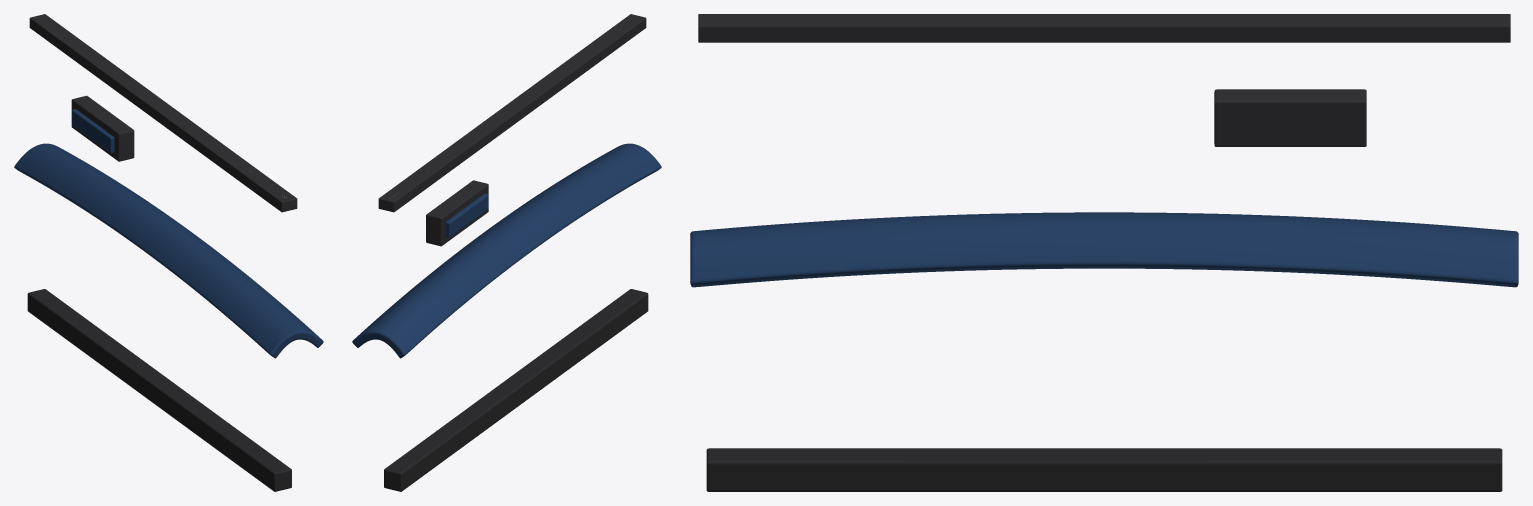
The model's file is front_right_door.glb.
3 renders of one model, left to right at view 1: azimuth 30°, elevation 25°; view 2: azimuth 150°, elevation 25°; view 3: azimuth 270°, elevation 25°, orthographic. The views are drawn at different scales.
Parts seen in each view (by area): view 1: DOOR_OUTER_SKIN_front_right_door.glb, DOOR_LOWER_BLADE_front_right_door.glb, DOOR_WAIST_SEAL_front_right_door.glb, HANDLE_CUP_front_right_door.glb, HANDLE_LEVER_front_right_door.glb; view 2: DOOR_OUTER_SKIN_front_right_door.glb, DOOR_LOWER_BLADE_front_right_door.glb, DOOR_WAIST_SEAL_front_right_door.glb, HANDLE_CUP_front_right_door.glb, HANDLE_LEVER_front_right_door.glb; view 3: DOOR_OUTER_SKIN_front_right_door.glb, DOOR_LOWER_BLADE_front_right_door.glb, DOOR_WAIST_SEAL_front_right_door.glb, HANDLE_CUP_front_right_door.glb.
Boxes of the visible parts, x1=… form: DOOR_OUTER_SKIN_front_right_door.glb: x1=14, y1=143, x2=323, y2=358; DOOR_LOWER_BLADE_front_right_door.glb: x1=27, y1=289, x2=291, y2=491; DOOR_WAIST_SEAL_front_right_door.glb: x1=29, y1=14, x2=297, y2=212; HANDLE_CUP_front_right_door.glb: x1=71, y1=95, x2=134, y2=161; HANDLE_LEVER_front_right_door.glb: x1=71, y1=109, x2=114, y2=152; DOOR_OUTER_SKIN_front_right_door.glb: x1=352, y1=143, x2=661, y2=358; DOOR_LOWER_BLADE_front_right_door.glb: x1=384, y1=289, x2=648, y2=491; DOOR_WAIST_SEAL_front_right_door.glb: x1=378, y1=14, x2=646, y2=212; HANDLE_CUP_front_right_door.glb: x1=426, y1=180, x2=488, y2=246; HANDLE_LEVER_front_right_door.glb: x1=445, y1=193, x2=488, y2=237; DOOR_OUTER_SKIN_front_right_door.glb: x1=690, y1=212, x2=1518, y2=287; DOOR_LOWER_BLADE_front_right_door.glb: x1=706, y1=448, x2=1502, y2=491; DOOR_WAIST_SEAL_front_right_door.glb: x1=698, y1=14, x2=1510, y2=42; HANDLE_CUP_front_right_door.glb: x1=1214, y1=89, x2=1366, y2=146.
Bounding box in the file's own units: 0.1169 × 0.611 × 0.9794.
